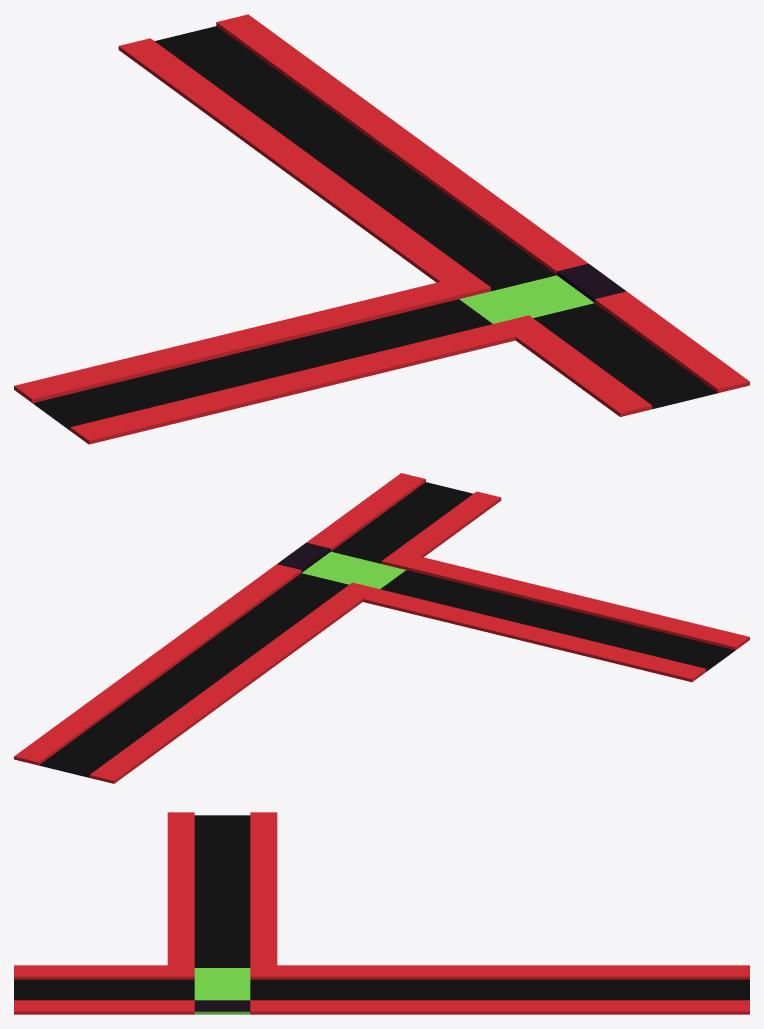
File: chaplin.fbx
The picture shows the model from 3 angles, top to bottom: view 1: azimuth 30°, elevation 25°; view 2: azimuth 150°, elevation 25°; view 3: azimuth 270°, elevation 25°; orthographic projection. The views are drawn at different scales.
Parts seen in each view (by area): view 1: Plane.257; view 2: Plane.257; view 3: Plane.257.
Boxes of the visible parts, bbox=[...] form: Plane.257: bbox=[14, 14, 749, 444]; Plane.257: bbox=[14, 473, 749, 783]; Plane.257: bbox=[14, 812, 749, 1014].
Size of the model in its own units: 20677 by 140 by 32289.
